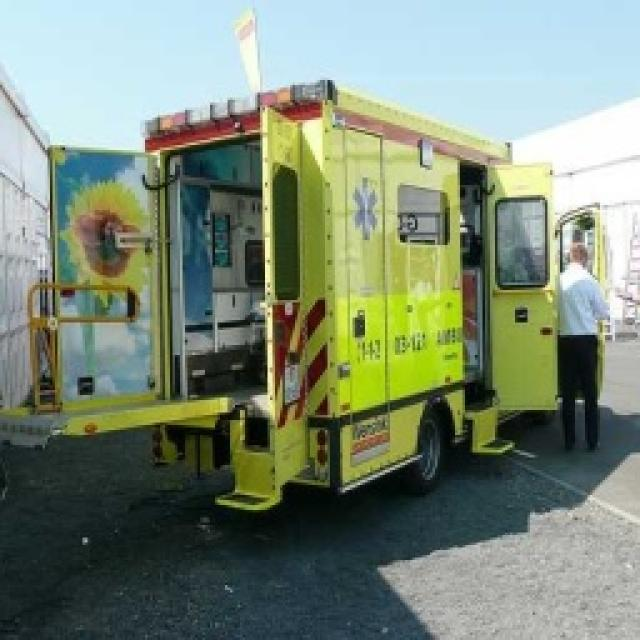ambulance: (242, 77, 628, 505), (0, 85, 40, 410)
